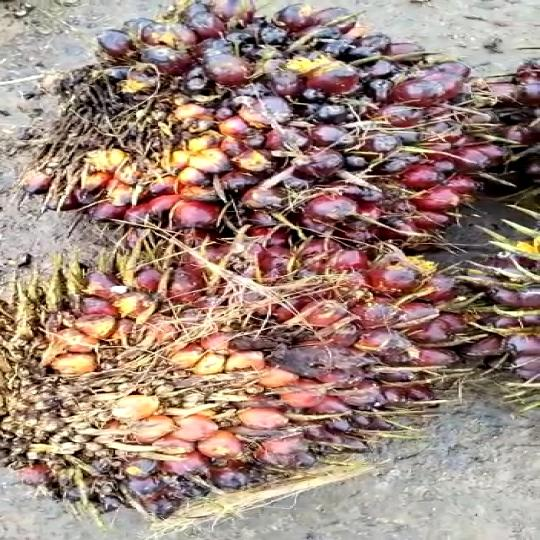kurang masak: (0, 224, 442, 508), (26, 0, 502, 255)
